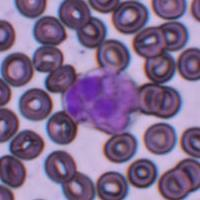E: (61, 68, 138, 135)
